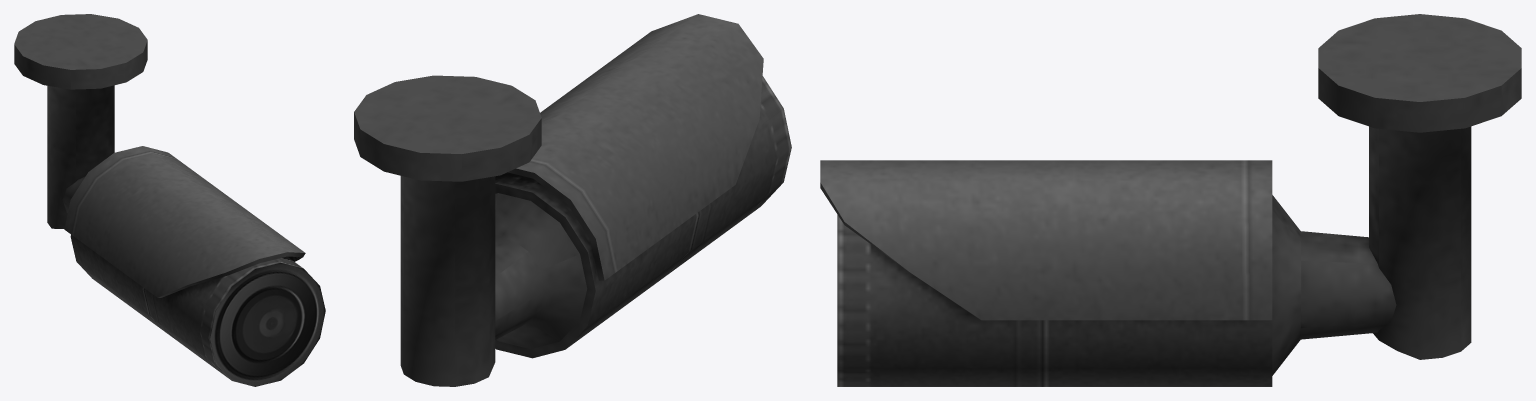
Rendered from cctvBullet02.gltf.
3 renders of one model, left to right at view 1: azimuth 30°, elevation 25°; view 2: azimuth 150°, elevation 25°; view 3: azimuth 270°, elevation 25°, orthographic. The views are drawn at different scales.
Parts seen in each view (by area): view 1: cctvBullet02; view 2: cctvBullet02; view 3: cctvBullet02.
Part boxes in pixels (x1,y1,x2,y2): cctvBullet02: [14, 14, 325, 386]; cctvBullet02: [354, 14, 791, 386]; cctvBullet02: [820, 14, 1521, 386].
Bounding box in the file's own units: 0.7054 × 1.08 × 2.15.
Materials: 1 (1 with a texture image).
